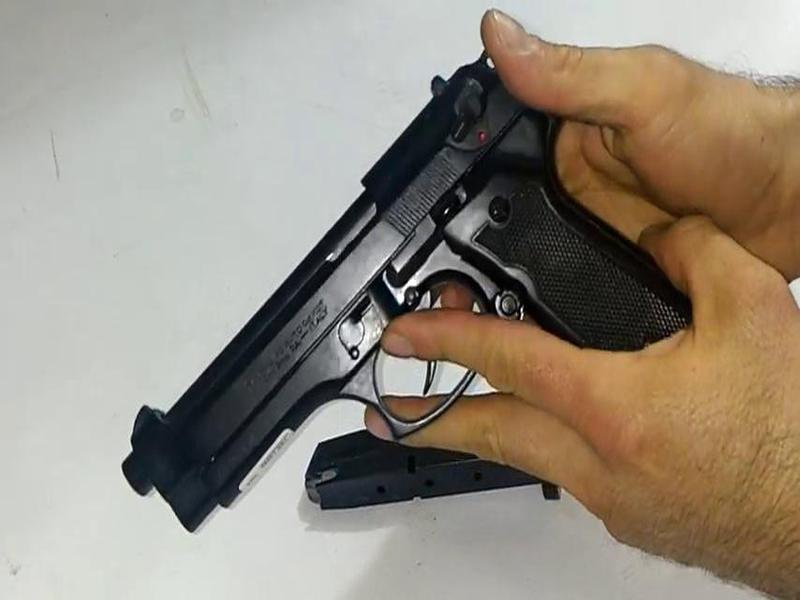Pistola: (68, 25, 738, 505)
